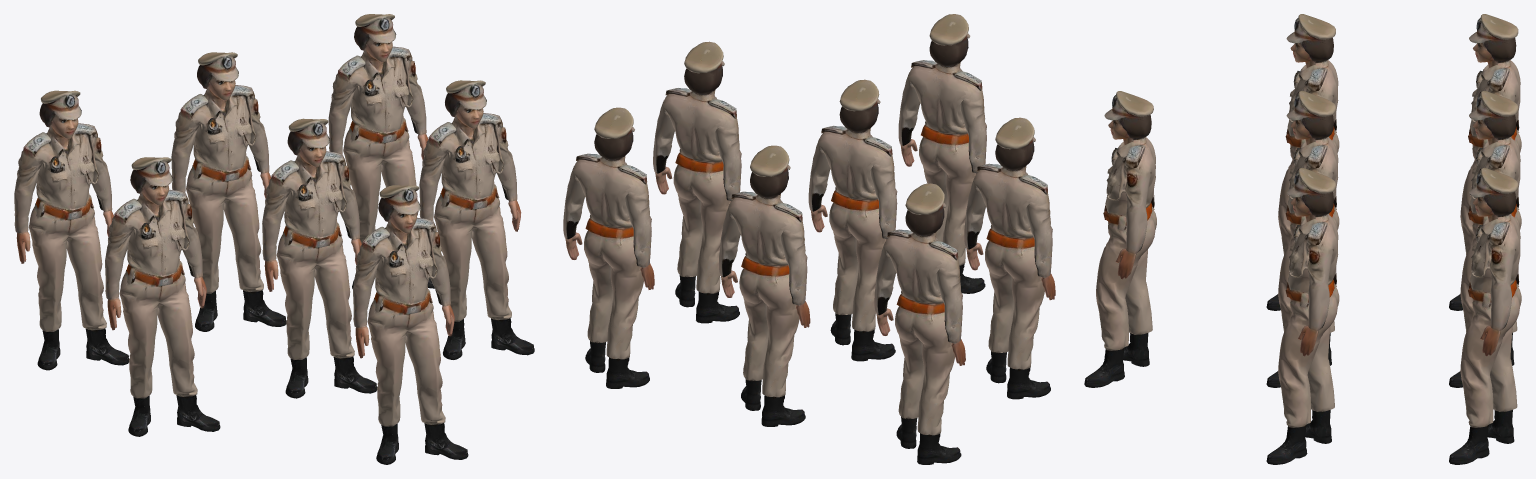
The model's file is parade_india_idle.glb.
The picture shows the model from 3 angles, left to right: view 1: azimuth 30°, elevation 25°; view 2: azimuth 150°, elevation 25°; view 3: azimuth 270°, elevation 25°; orthographic projection.
Visible parts, largest first — view 1: tripo_node_661625e5-55dd-40d3-a4f2-95a83a8b770f.003, tripo_node_661625e5-55dd-40d3-a4f2-95a83a8b770f, tripo_node_661625e5-55dd-40d3-a4f2-95a83a8b770f.001, tripo_node_661625e5-55dd-40d3-a4f2-95a83a8b770f.006, tripo_node_661625e5-55dd-40d3-a4f2-95a83a8b770f.002, tripo_node_661625e5-55dd-40d3-a4f2-95a83a8b770f.004, tripo_node_661625e5-55dd-40d3-a4f2-95a83a8b770f.005; view 2: tripo_node_661625e5-55dd-40d3-a4f2-95a83a8b770f.003, tripo_node_661625e5-55dd-40d3-a4f2-95a83a8b770f.006, tripo_node_661625e5-55dd-40d3-a4f2-95a83a8b770f.005, tripo_node_661625e5-55dd-40d3-a4f2-95a83a8b770f.004, tripo_node_661625e5-55dd-40d3-a4f2-95a83a8b770f.002, tripo_node_661625e5-55dd-40d3-a4f2-95a83a8b770f.001, tripo_node_661625e5-55dd-40d3-a4f2-95a83a8b770f; view 3: tripo_node_661625e5-55dd-40d3-a4f2-95a83a8b770f.005, tripo_node_661625e5-55dd-40d3-a4f2-95a83a8b770f, tripo_node_661625e5-55dd-40d3-a4f2-95a83a8b770f.002, tripo_node_661625e5-55dd-40d3-a4f2-95a83a8b770f.004, tripo_node_661625e5-55dd-40d3-a4f2-95a83a8b770f.001, tripo_node_661625e5-55dd-40d3-a4f2-95a83a8b770f.006, tripo_node_661625e5-55dd-40d3-a4f2-95a83a8b770f.003.
Part boxes in pixels (x1,y1,x2,y2): tripo_node_661625e5-55dd-40d3-a4f2-95a83a8b770f.003: [105, 157, 220, 436]; tripo_node_661625e5-55dd-40d3-a4f2-95a83a8b770f: [353, 185, 468, 464]; tripo_node_661625e5-55dd-40d3-a4f2-95a83a8b770f.001: [262, 118, 377, 398]; tripo_node_661625e5-55dd-40d3-a4f2-95a83a8b770f.006: [14, 90, 129, 370]; tripo_node_661625e5-55dd-40d3-a4f2-95a83a8b770f.002: [419, 80, 534, 359]; tripo_node_661625e5-55dd-40d3-a4f2-95a83a8b770f.004: [171, 52, 286, 331]; tripo_node_661625e5-55dd-40d3-a4f2-95a83a8b770f.005: [328, 14, 434, 288]; tripo_node_661625e5-55dd-40d3-a4f2-95a83a8b770f.003: [964, 117, 1055, 399]; tripo_node_661625e5-55dd-40d3-a4f2-95a83a8b770f.006: [874, 183, 965, 464]; tripo_node_661625e5-55dd-40d3-a4f2-95a83a8b770f.005: [563, 107, 654, 388]; tripo_node_661625e5-55dd-40d3-a4f2-95a83a8b770f.004: [719, 145, 810, 426]; tripo_node_661625e5-55dd-40d3-a4f2-95a83a8b770f.002: [653, 41, 741, 323]; tripo_node_661625e5-55dd-40d3-a4f2-95a83a8b770f.001: [808, 79, 897, 361]; tripo_node_661625e5-55dd-40d3-a4f2-95a83a8b770f: [898, 14, 986, 293]; tripo_node_661625e5-55dd-40d3-a4f2-95a83a8b770f.005: [1449, 168, 1521, 464]; tripo_node_661625e5-55dd-40d3-a4f2-95a83a8b770f: [1084, 91, 1156, 387]; tripo_node_661625e5-55dd-40d3-a4f2-95a83a8b770f.002: [1266, 168, 1339, 464]; tripo_node_661625e5-55dd-40d3-a4f2-95a83a8b770f.004: [1449, 91, 1521, 387]; tripo_node_661625e5-55dd-40d3-a4f2-95a83a8b770f.001: [1266, 91, 1339, 387]; tripo_node_661625e5-55dd-40d3-a4f2-95a83a8b770f.006: [1449, 14, 1521, 310]; tripo_node_661625e5-55dd-40d3-a4f2-95a83a8b770f.003: [1266, 14, 1339, 310].
Bounding box in the file's own units: 1.55 × 0.9922 × 1.44.
Materials: 1 (1 with a texture image).
